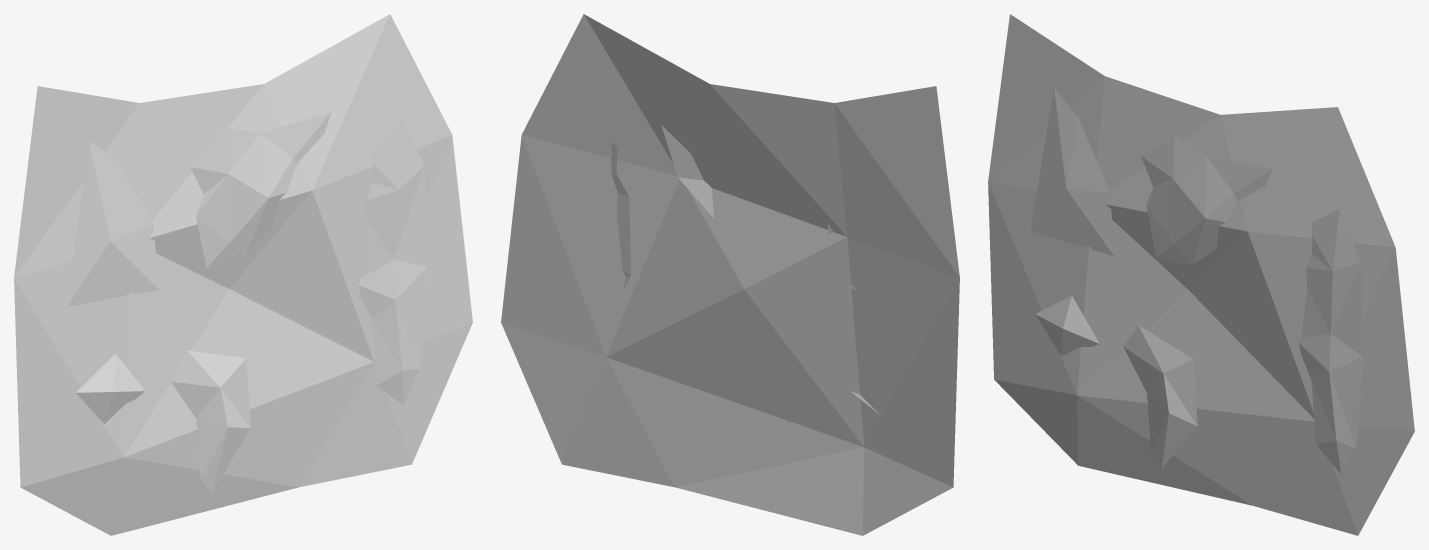
Rendered from SM_Env_Ivy_Flowers_01.glb.
The picture shows the model from 3 angles, left to right: view 1: azimuth 30°, elevation 25°; view 2: azimuth 150°, elevation 25°; view 3: azimuth 330°, elevation 25°; orthographic projection. The views are drawn at different scales.
Visible parts, largest first — view 1: SM_Env_Ivy_Flowers_01; view 2: SM_Env_Ivy_Flowers_01; view 3: SM_Env_Ivy_Flowers_01.
Boxes of the visible parts, bbox=[...] form: SM_Env_Ivy_Flowers_01: bbox=[14, 14, 472, 535]; SM_Env_Ivy_Flowers_01: bbox=[501, 14, 959, 535]; SM_Env_Ivy_Flowers_01: bbox=[988, 14, 1414, 535].
Bounding box in the file's own units: 2.39 × 2.34 × 0.0934.
Materials: 1 (1 with a texture image).
